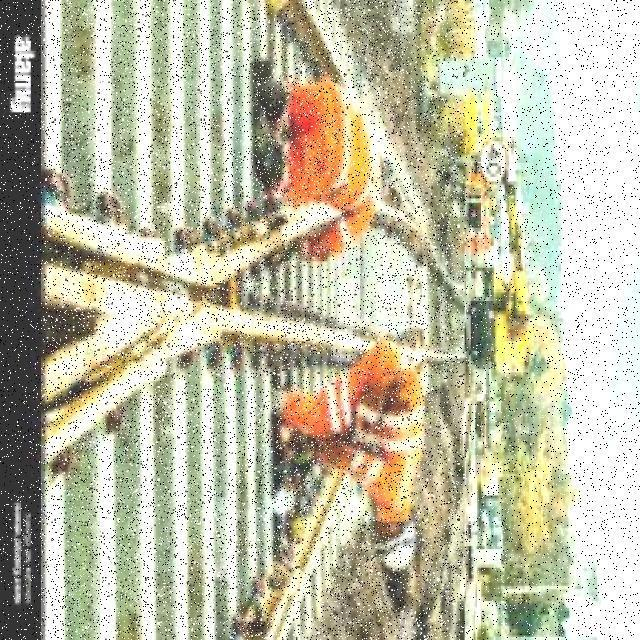danger: (269, 335, 426, 600), (240, 74, 385, 268)
rail: (42, 0, 461, 640)
